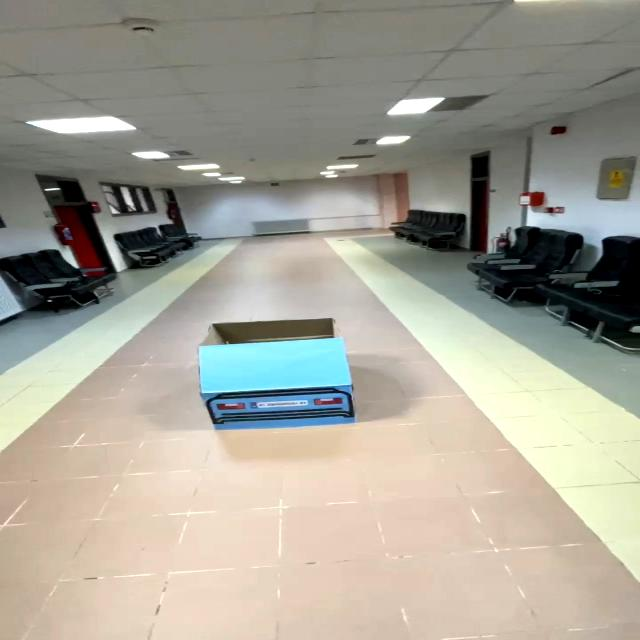blue_car: (166, 300, 386, 463)
